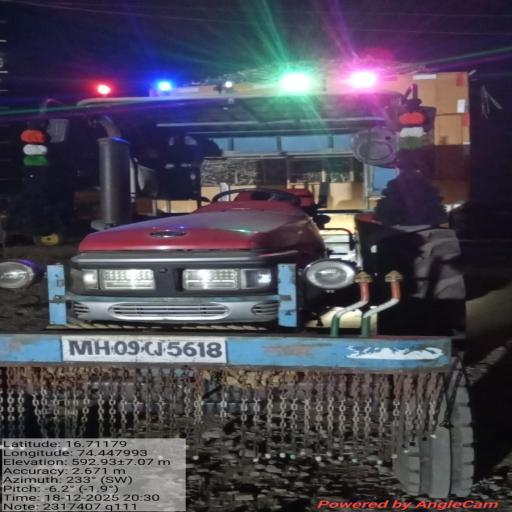number_plate: (62, 335, 226, 363)
